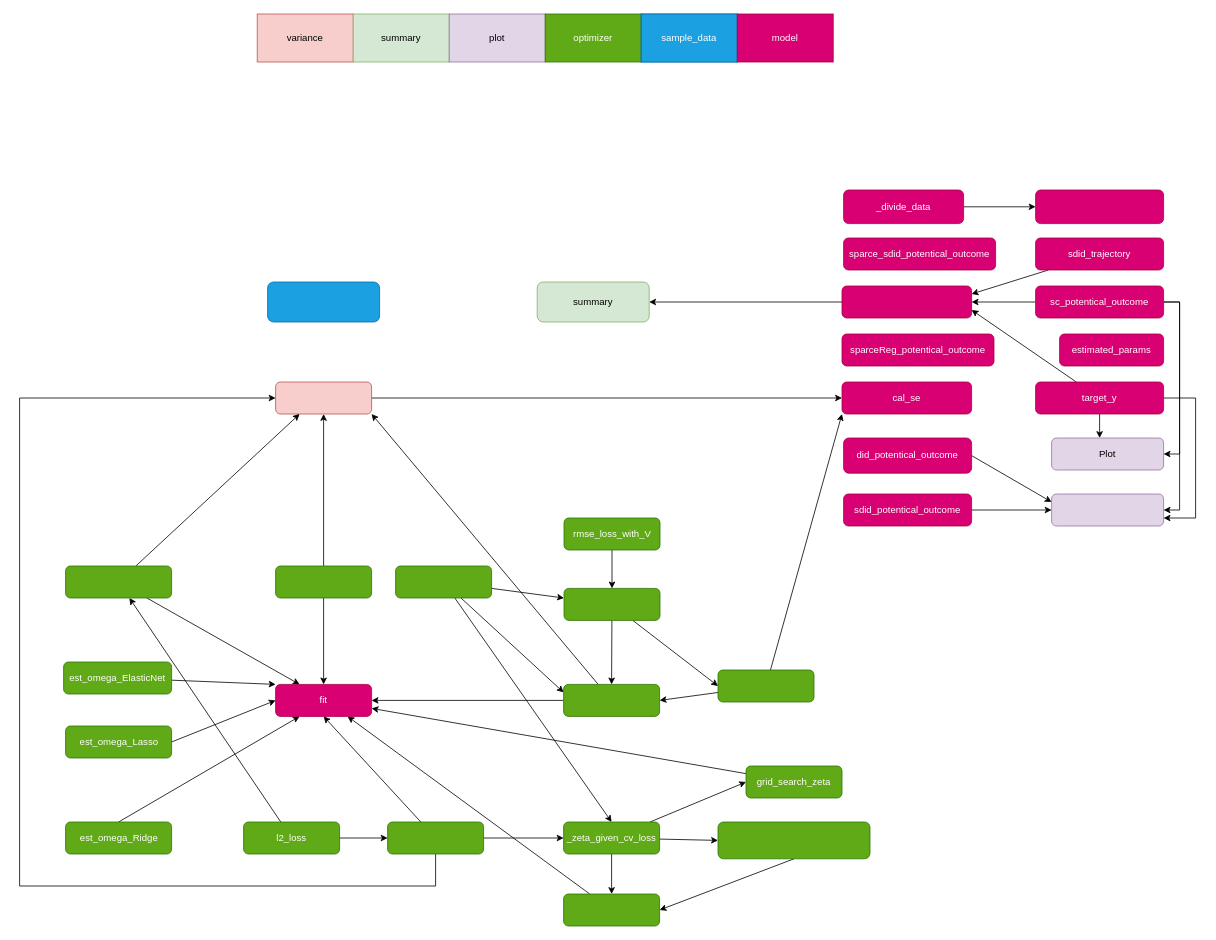
Some shapes in this 1216 by 940 pixel diagram are drawn without their labels. Here are the shapes that lost their labels. From the top down, the box of each, then its label:
(1035, 189, 1164, 224): __init__
(267, 281, 380, 322): fetch_CaliforniaSmoking
(841, 285, 972, 318): hat_tau
(275, 381, 372, 414): estimate_variance
(1051, 493, 1164, 526): comparison_plot
(65, 565, 172, 598): est_lambda
(275, 565, 372, 598): est_zeta
(395, 565, 492, 598): rmse_loss
(563, 588, 660, 620): _v_loss
(563, 684, 660, 716): est_omega_ADH
(717, 669, 814, 702): estimate_v
(387, 821, 484, 854): est_omega
(717, 821, 870, 859): _zeta_given_cv_loss_inverse
(563, 893, 660, 926): bayes_opt_zeta
